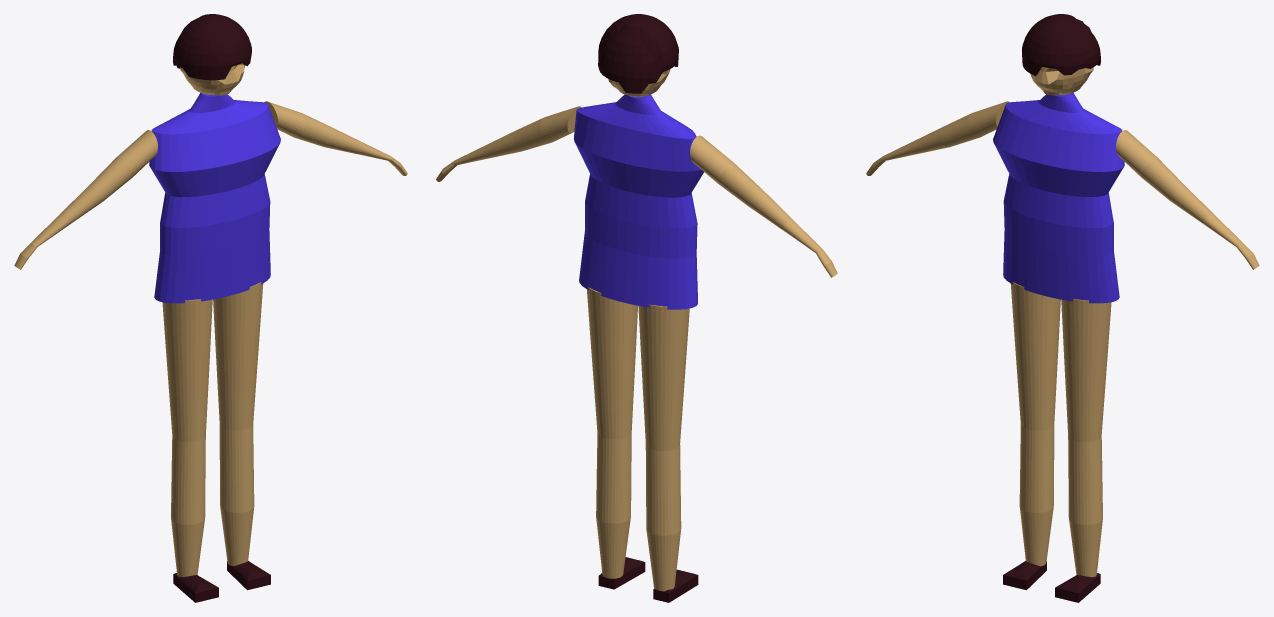
The model's file is River.fbx.
3 renders of one model, left to right at view 1: azimuth 30°, elevation 25°; view 2: azimuth 150°, elevation 25°; view 3: azimuth 330°, elevation 25°, orthographic. The views are drawn at different scales.
Parts seen in each view (by area): view 1: Torso.006, R Leg.004, L Leg.004, Hair, R Arm.004, L Arm.004, Head.006, R Foot.004, L Foot.004; view 2: Torso.006, R Leg.004, L Leg.004, Hair, R Arm.004, L Arm.004, R Foot.004, L Foot.004; view 3: Torso.006, L Leg.004, R Leg.004, Hair, L Arm.004, R Arm.004, Head.006, L Foot.004, R Foot.004.
Part boxes in pixels (x1,y1,x2,y2): Torso.006: (149,92,280,303); R Leg.004: (162,299,212,577); L Leg.004: (213,282,263,566); Hair: (173,14,251,80); R Arm.004: (14,130,157,269); L Arm.004: (264,101,407,175); Head.006: (180,63,244,95); R Foot.004: (173,573,218,602); L Foot.004: (227,561,270,590); Torso.006: (573,94,703,309); R Leg.004: (638,304,689,591); L Leg.004: (587,287,637,578); Hair: (598,14,678,93); R Arm.004: (690,135,837,277); L Arm.004: (436,106,581,181); R Foot.004: (653,569,698,602); L Foot.004: (598,557,645,589); Torso.006: (993,92,1124,303); L Leg.004: (1061,299,1111,577); R Leg.004: (1010,282,1060,566); Hair: (1022,14,1100,75); L Arm.004: (1116,130,1259,269); R Arm.004: (866,101,1009,175); Head.006: (1030,67,1093,95); L Foot.004: (1055,573,1100,602); R Foot.004: (1003,561,1046,590).
Size of the model in its own units: 146 by 200 by 26.21.
